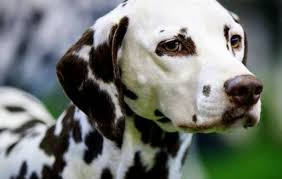dog: (1, 2, 272, 179)
